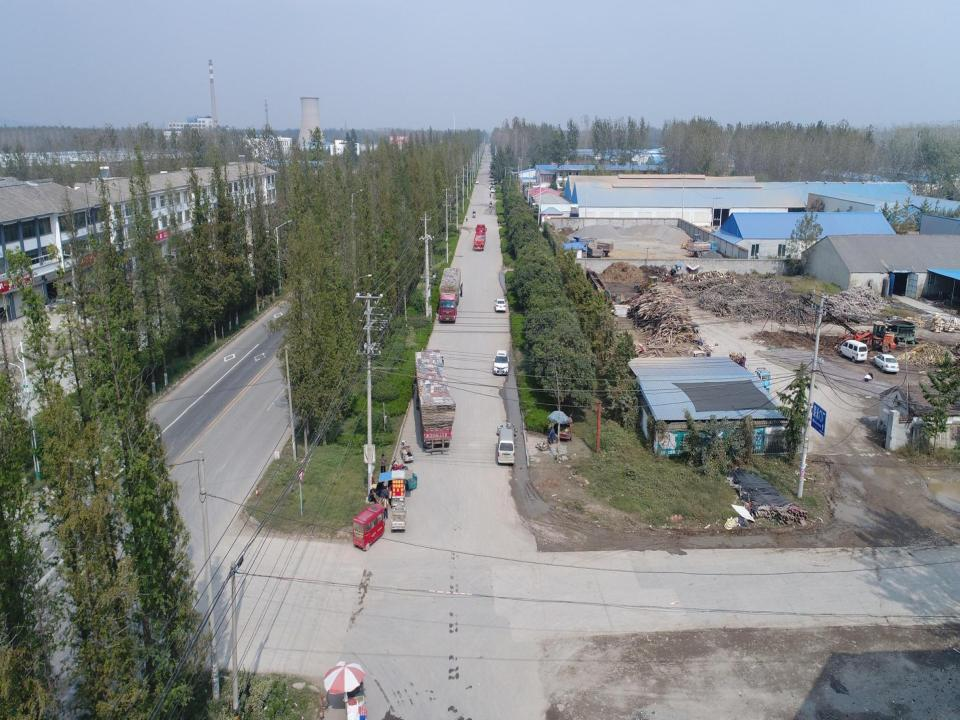car: (391, 458, 419, 490), (872, 353, 899, 374), (399, 439, 416, 464), (494, 350, 510, 375), (494, 297, 506, 313), (488, 184, 493, 189), (491, 186, 494, 194), (491, 178, 494, 185), (475, 180, 479, 184)
truck: (414, 346, 455, 461), (438, 266, 462, 324), (569, 234, 599, 251), (589, 238, 614, 258), (584, 240, 604, 260), (472, 224, 486, 250)
van: (840, 339, 869, 364), (497, 428, 516, 466)
